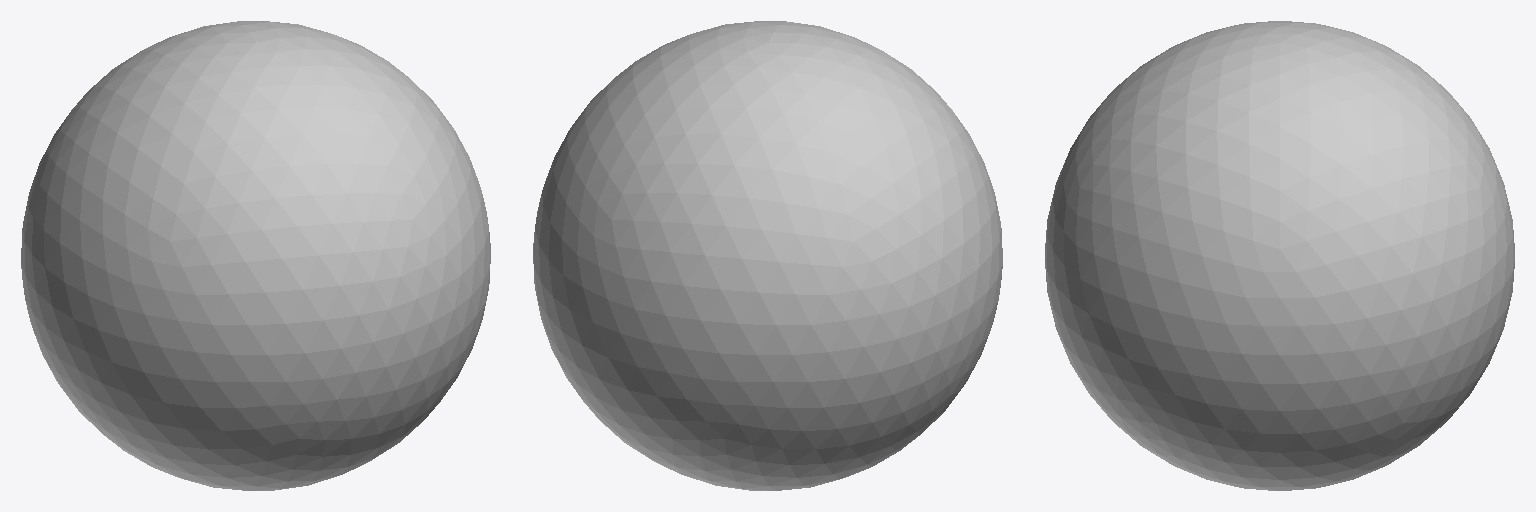
3 renders of one model, left to right at view 1: azimuth 30°, elevation 25°; view 2: azimuth 150°, elevation 25°; view 3: azimuth 270°, elevation 25°, orthographic.
Visible parts, largest first — view 1: stem__0; view 2: stem__0; view 3: stem__0.
Boxes of the visible parts, x1,y1,x2,y2 form: stem__0: [21, 21, 490, 490]; stem__0: [533, 21, 1002, 490]; stem__0: [1045, 21, 1514, 490].
Size of the model in its own units: 2 by 2 by 2.